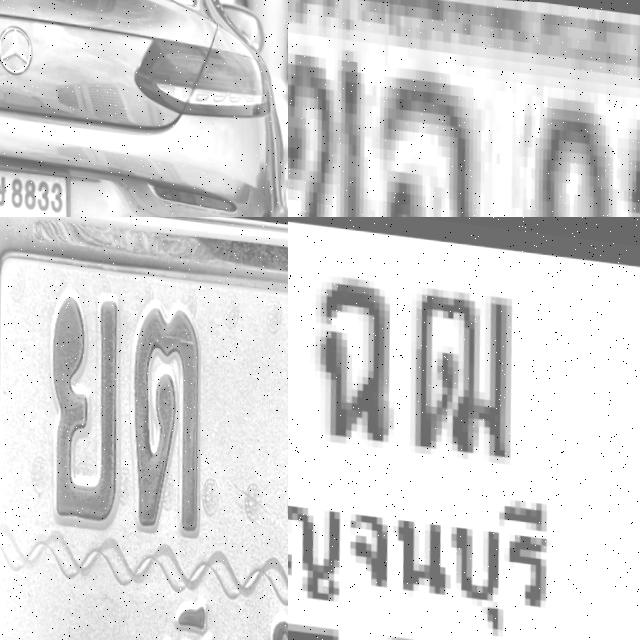license-plate: (288, 217, 640, 640), (0, 217, 288, 640), (288, 0, 640, 217), (0, 149, 72, 217)
